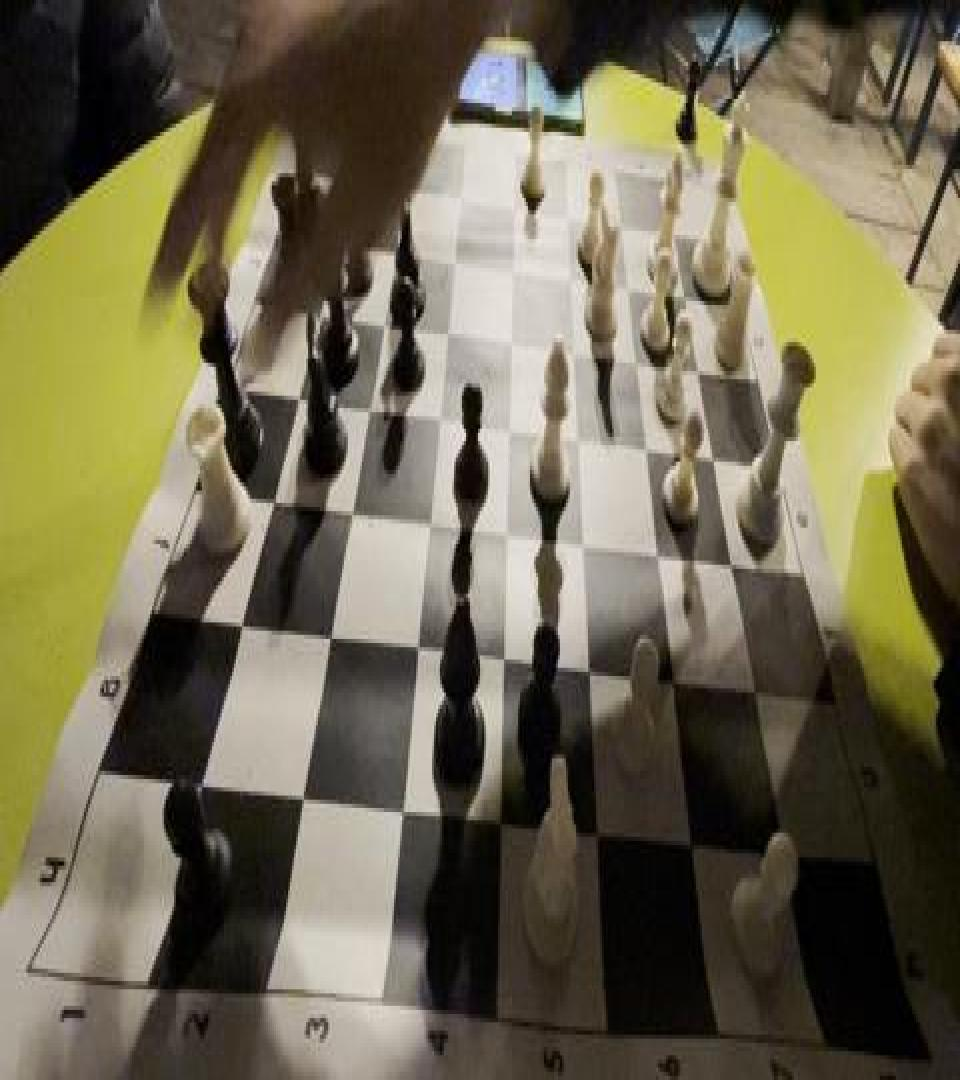xcorner: (192, 754, 212, 796), (775, 824, 795, 866), (408, 616, 428, 658), (494, 628, 514, 670), (343, 480, 363, 522), (420, 490, 440, 532), (568, 410, 588, 452), (635, 420, 655, 462), (310, 286, 330, 328), (687, 344, 707, 386), (328, 216, 348, 258), (662, 212, 682, 254), (293, 767, 313, 808), (392, 777, 412, 818), (587, 802, 607, 843), (682, 812, 702, 853), (321, 606, 341, 647), (579, 639, 599, 680), (745, 662, 765, 703), (264, 468, 284, 509), (497, 501, 517, 542), (648, 523, 668, 564), (722, 534, 742, 575), (289, 369, 309, 410), (360, 379, 380, 420), (430, 390, 450, 431), (499, 400, 519, 441), (703, 431, 723, 472), (374, 295, 394, 336), (438, 305, 458, 346), (564, 326, 584, 367), (625, 334, 645, 375), (386, 227, 406, 268), (445, 235, 465, 276), (617, 264, 637, 305), (673, 272, 693, 313), (342, 159, 362, 200), (397, 167, 417, 208), (451, 177, 471, 218), (557, 194, 577, 235), (610, 202, 630, 243), (490, 790, 510, 830), (233, 594, 253, 634), (663, 652, 683, 692), (573, 514, 593, 554), (501, 316, 521, 356), (503, 246, 523, 286), (560, 254, 580, 294), (504, 186, 524, 226)
